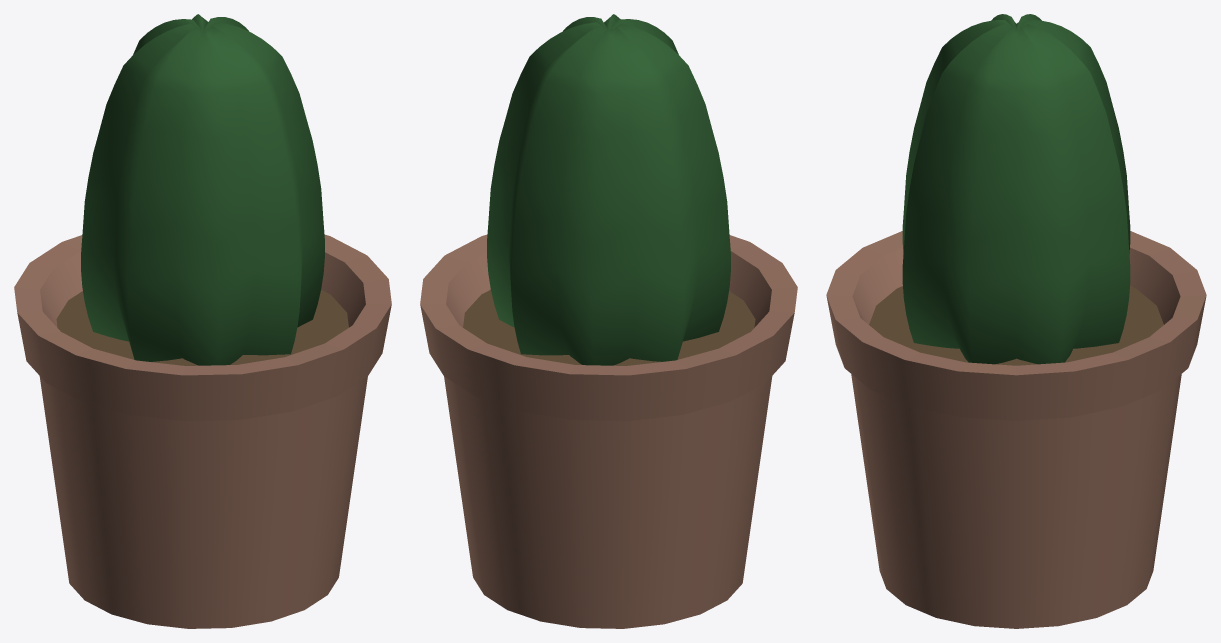
File: Plant.fbx
3 views of the same model, side by side, from view 1: azimuth 30°, elevation 25°; view 2: azimuth 150°, elevation 25°; view 3: azimuth 270°, elevation 25° (orthographic).
Parts seen in each view (by area): view 1: pCylinder1, pSphere1; view 2: pCylinder1, pSphere1; view 3: pCylinder1, pSphere1.
Boxes of the visible parts, left/top/right/bottom form: pCylinder1: left=14, top=234, right=391, bottom=628; pSphere1: left=81, top=14, right=324, bottom=365; pCylinder1: left=420, top=234, right=797, bottom=628; pSphere1: left=487, top=14, right=730, bottom=365; pCylinder1: left=826, top=231, right=1206, bottom=628; pSphere1: left=902, top=14, right=1130, bottom=364.
Bounding box in the file's own units: 2.78 × 4.43 × 2.78.
